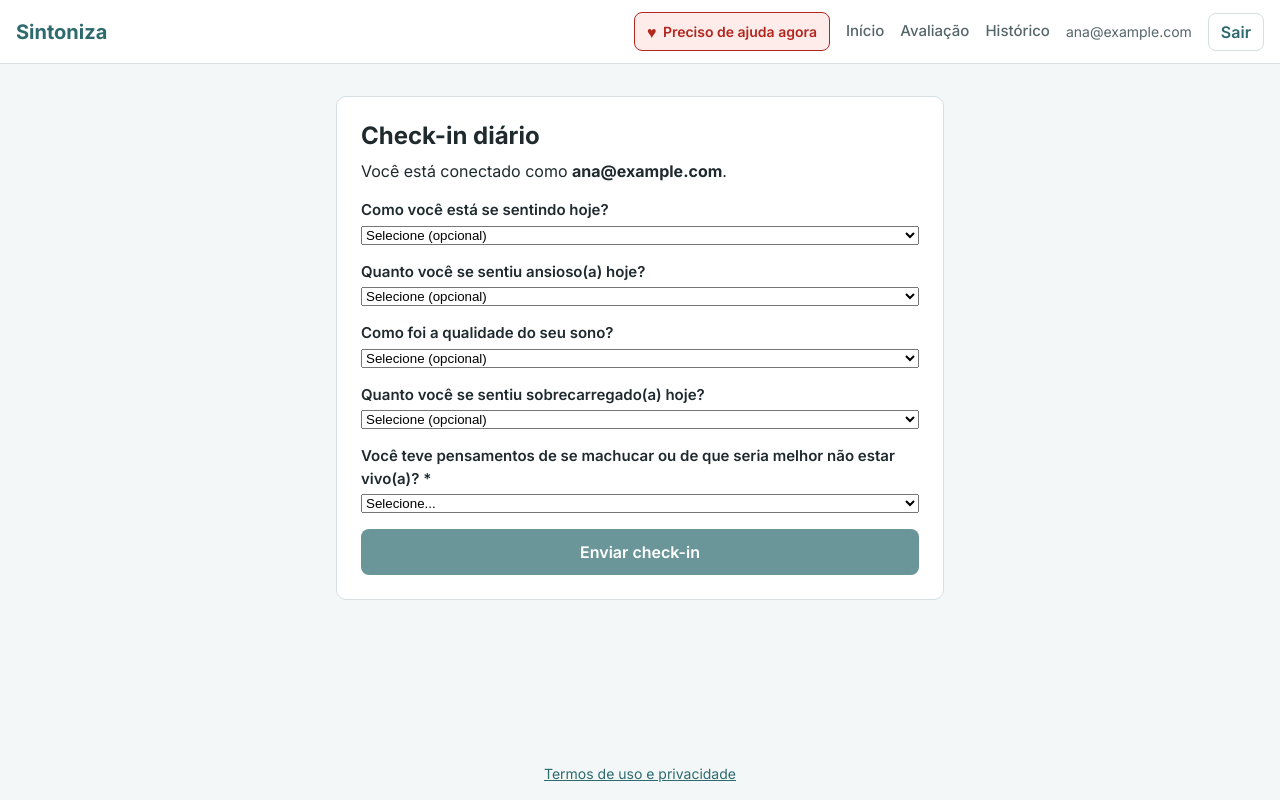
it: DailyCheckin sem risco (R06, R-S5) › mostra os materiais e os motivos após o envio
Select "Bom" in the dropdown labelled "Como você está se sentindo hoje?": (640, 235) [361,226,919,244]
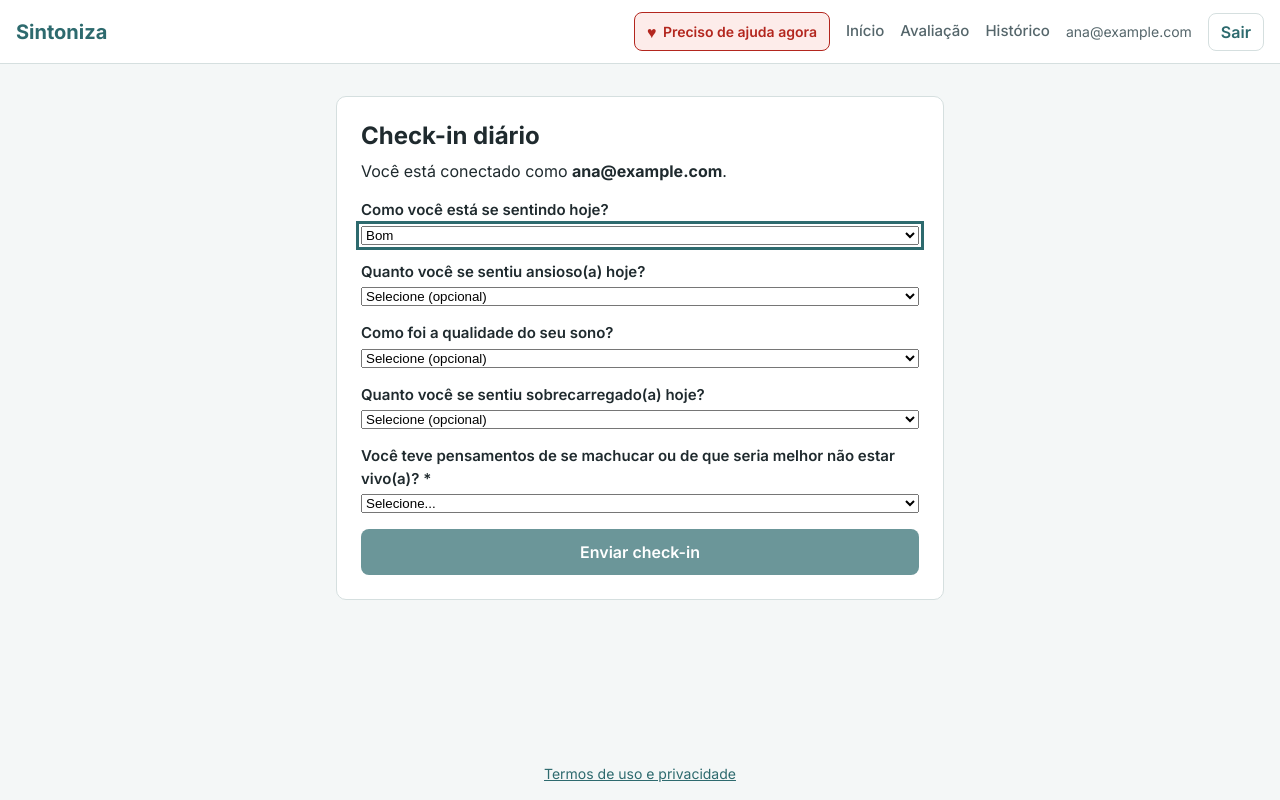
Select "Extremamente" in the dropdown labelled "Quanto você se sentiu ansioso(a) hoje?": (640, 296) [361,287,919,306]
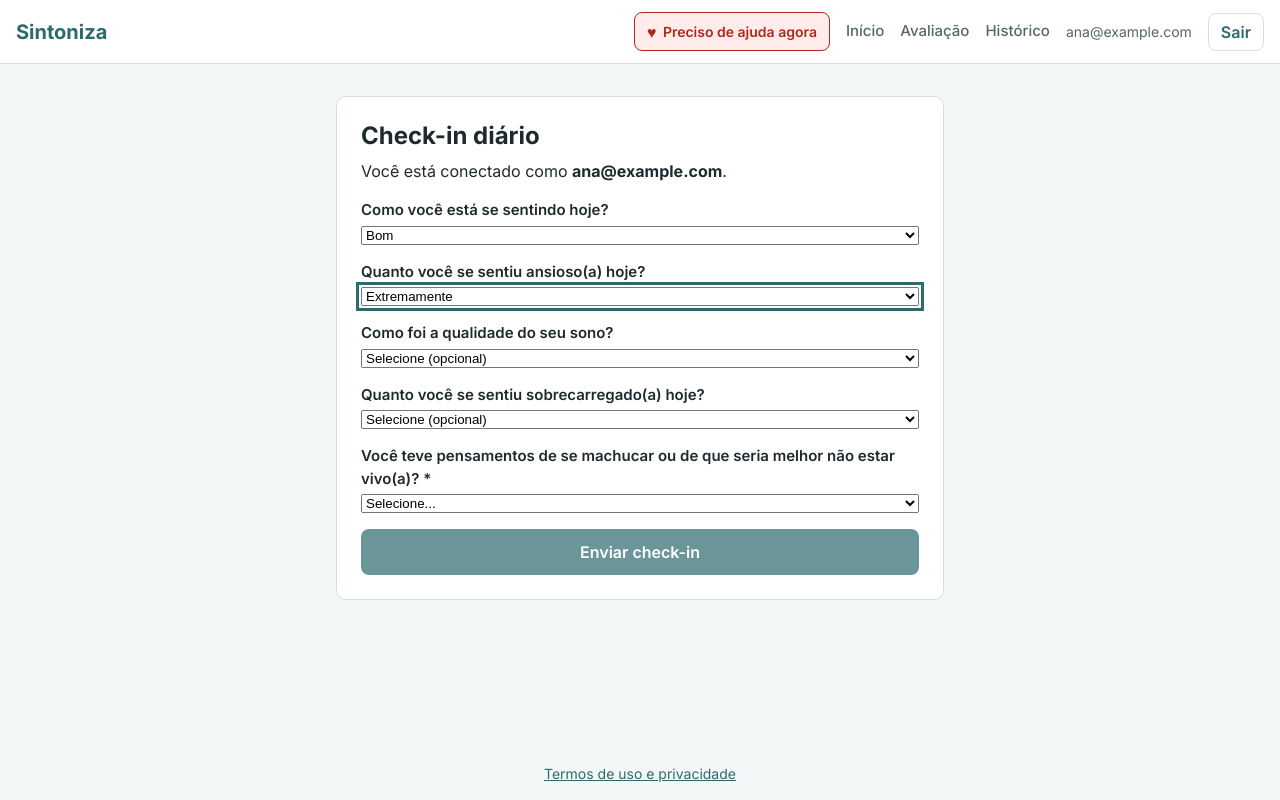
Select "Muito ruim" in the dropdown labelled "Como foi a qualidade do seu sono?": (640, 358) [361,348,919,368]
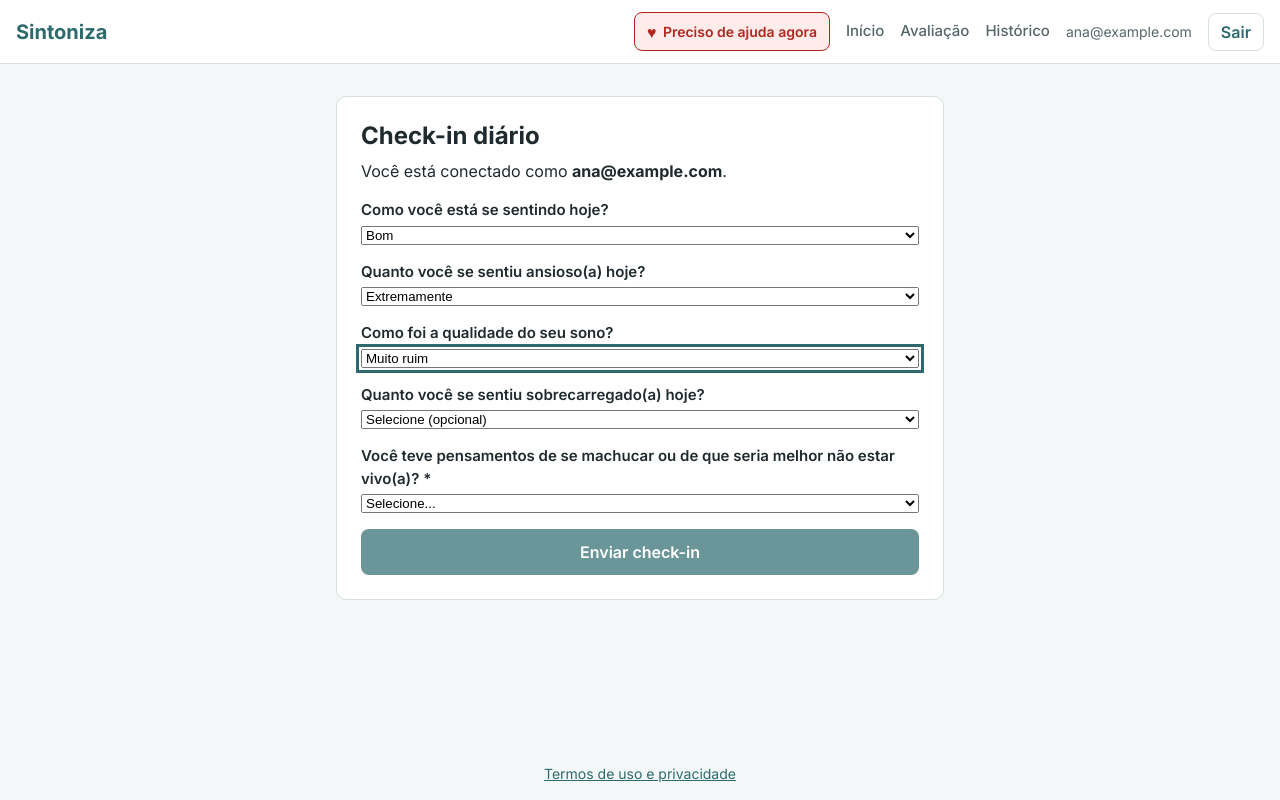
Select "Nada" in the dropdown labelled "Quanto você se sentiu sobrecarregado(a) hoje?": (640, 420) [361,410,919,429]
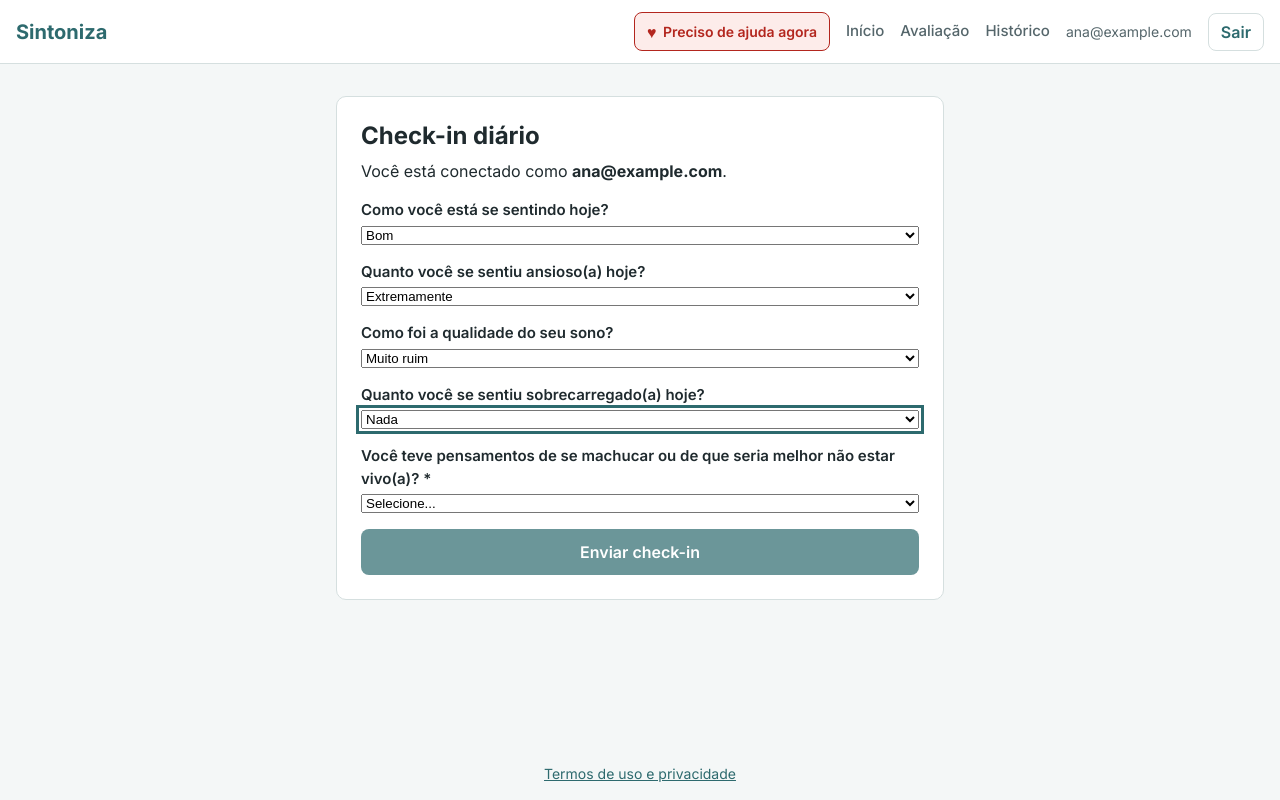
Select "Não" in the dropdown labelled "pensamentos de se machucar": (640, 504) [361,494,919,513]
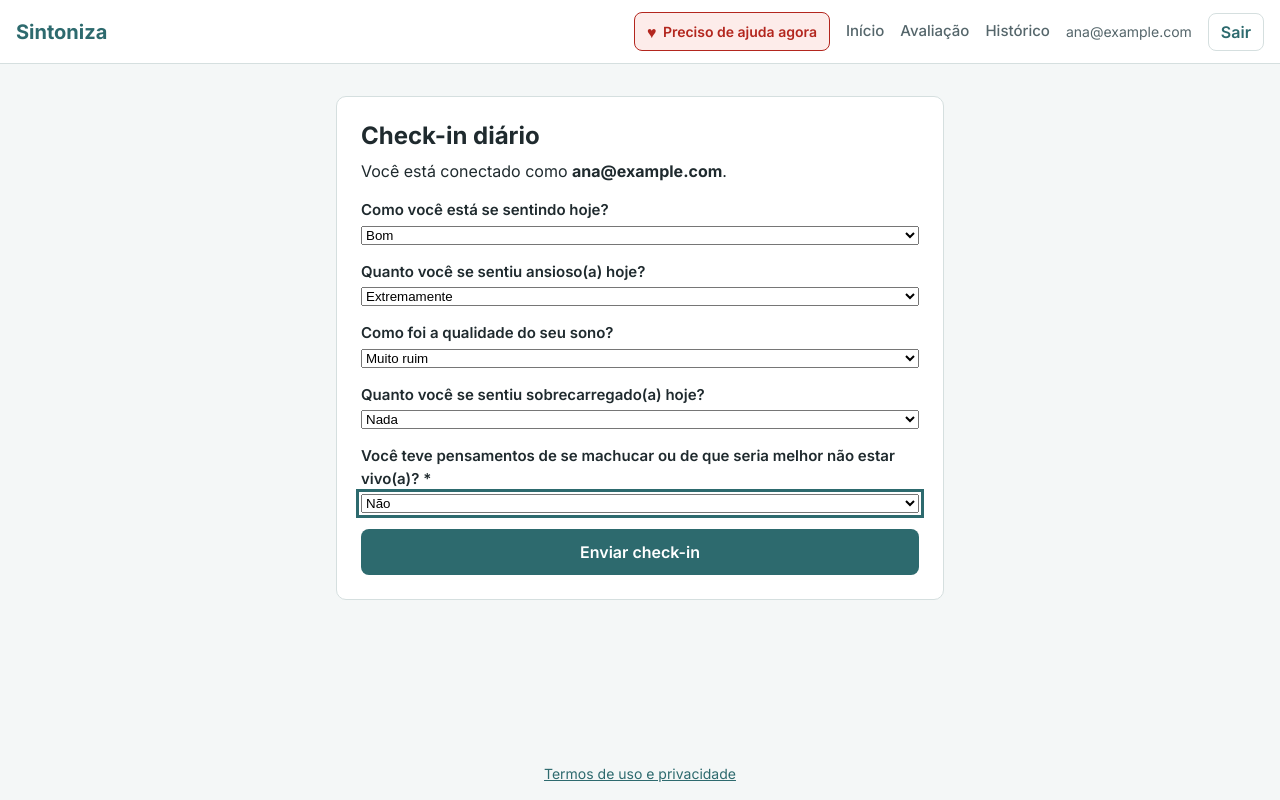
Click the button "Enviar check-in": (640, 552) [361,529,919,575]
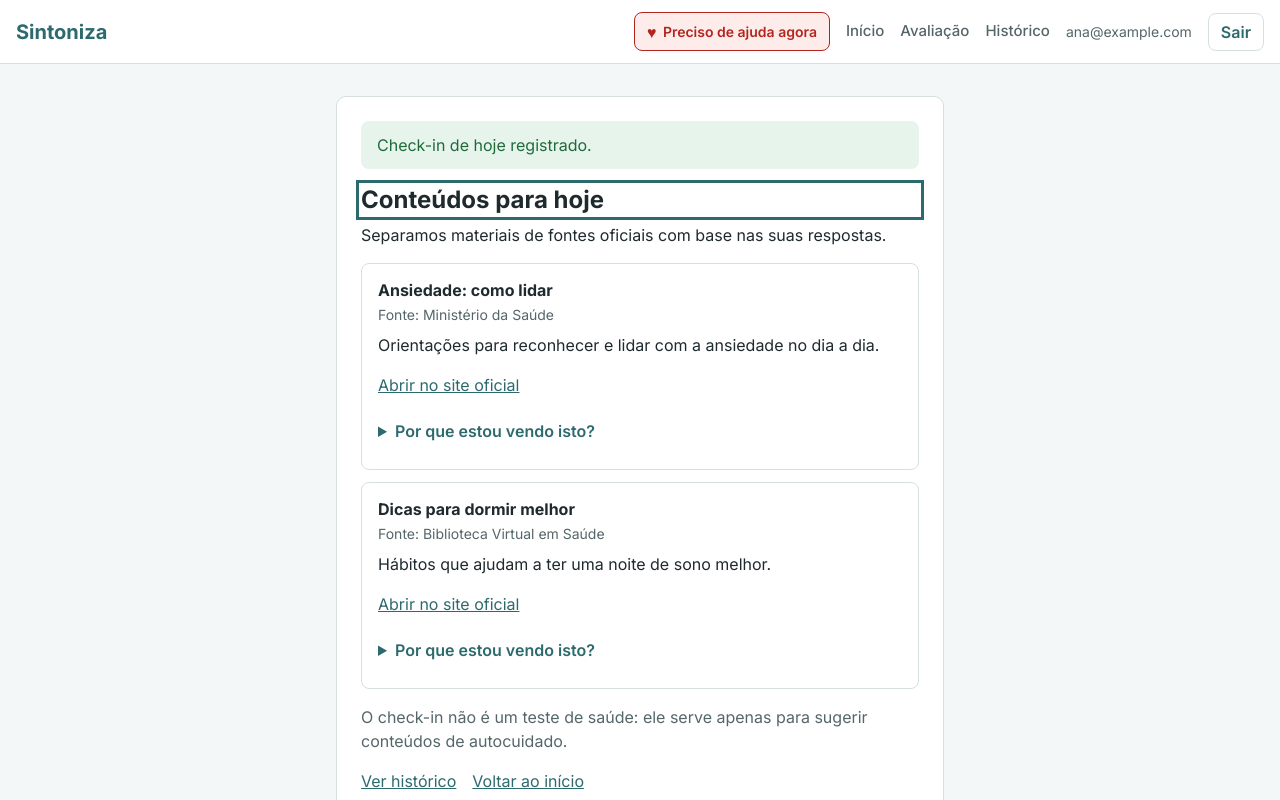
Expected: the text "Check-in de hoje registrado." is shown, [361,121,919,169]
Expected: the heading "Conteúdos para hoje" is shown, [361,185,604,214]
Expected: the heading "Ansiedade: como lidar" is shown, [378,280,553,300]
